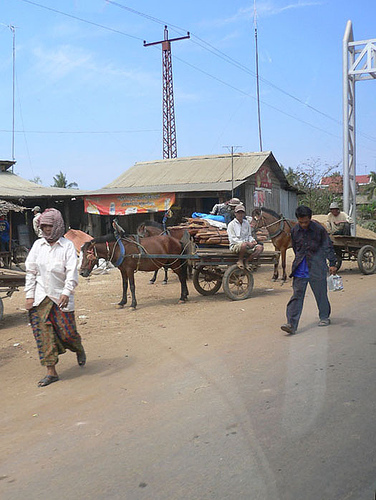horse: (80, 232, 192, 309), (249, 205, 334, 282)
